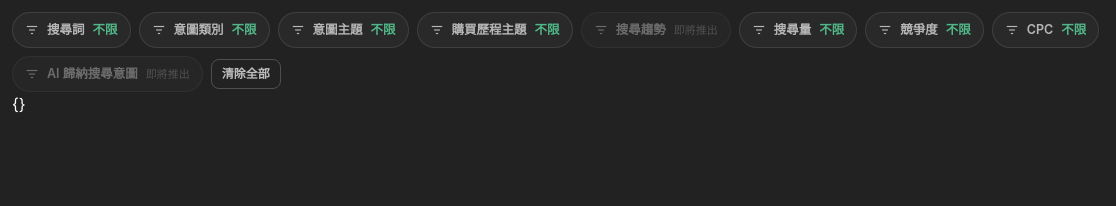
Test: TC-17 · FilterBar (chips popover → FilterSpec + URL) › blocks a min>max range (inline error + disabled 套用; spec untouched)
Click the button "搜尋量 不限" at (798, 30), box [739,12,857,48]
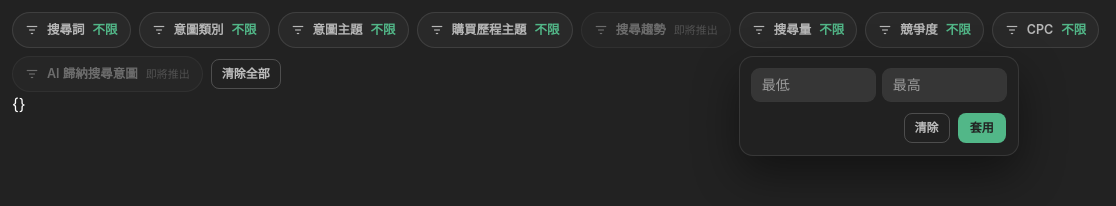
Type "500" into the number field labelled "最低" at (813, 85), box [752,69,875,101]
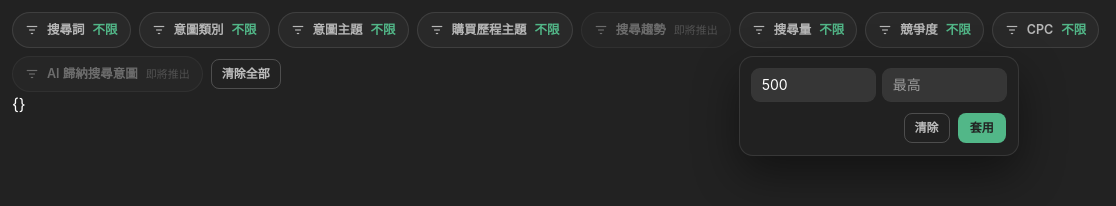
Type "100" into the number field labelled "最高" at (944, 85), box [883,69,1006,101]
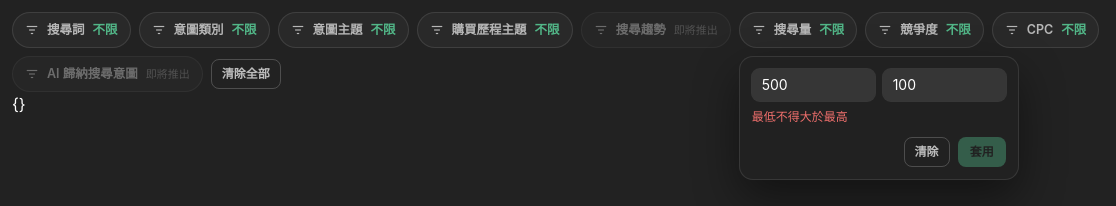
Expected: the message reads "最低不得大於最高", [752,109,848,124]
Expected: the button "套用" is disabled, [958,137,1006,167]
